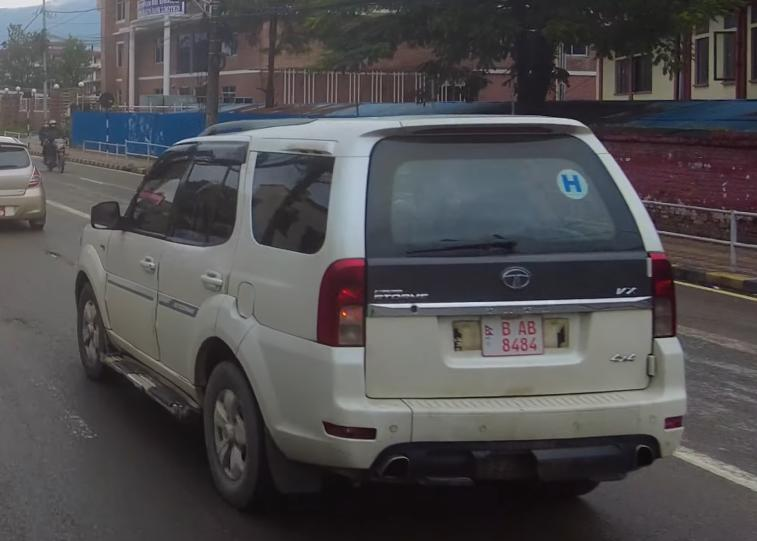SUV: (71, 107, 702, 516)
car: (0, 130, 52, 234)
